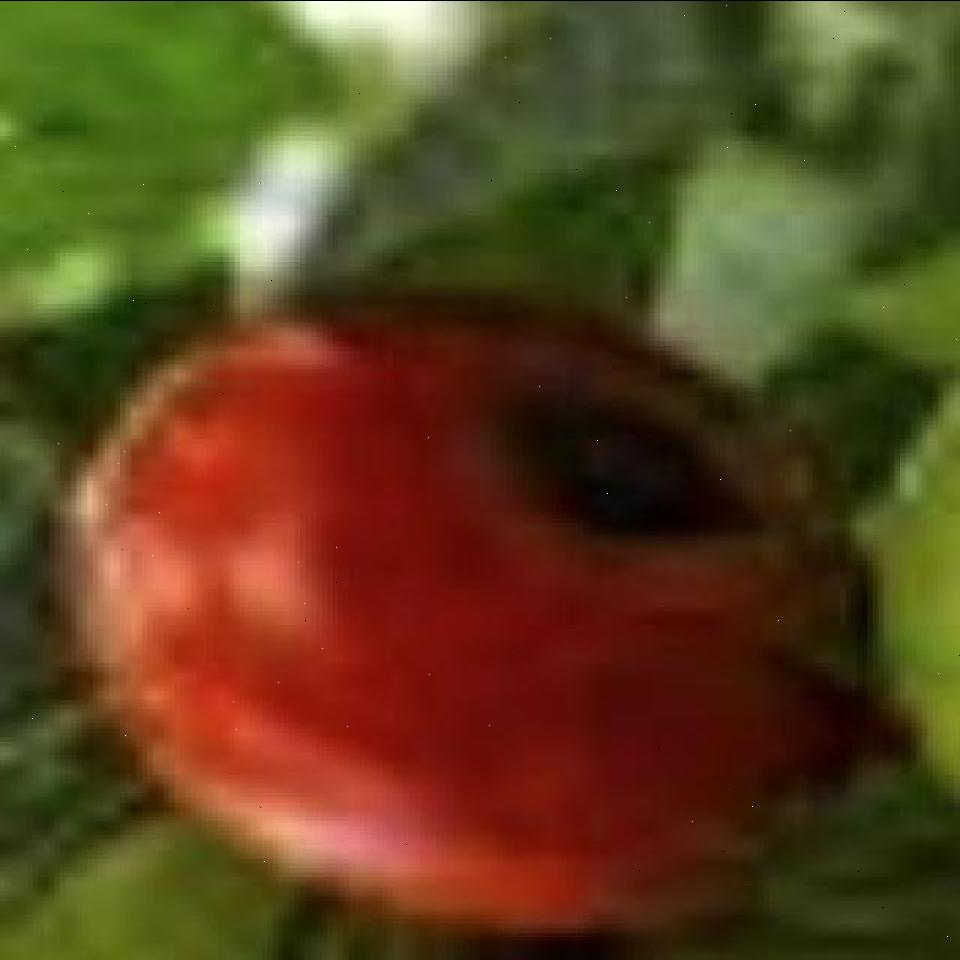Blossom_end_rot: (466, 386, 734, 574)
